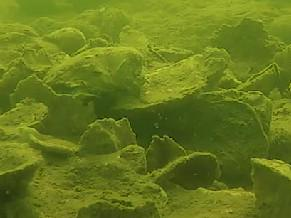Oyster- Indeterminate: (235, 64, 275, 98)
Oyster-Closed: (172, 99, 269, 192), (110, 49, 231, 117), (43, 46, 147, 96), (155, 153, 219, 191), (0, 140, 42, 196), (251, 159, 291, 211), (0, 100, 50, 139), (146, 135, 187, 170), (24, 129, 79, 154), (95, 119, 135, 152), (79, 123, 117, 154), (44, 28, 86, 53), (120, 146, 147, 173)
Oyster-Open: (80, 34, 113, 51)
